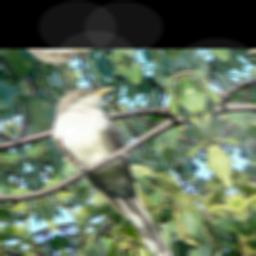Cuckoo: (36, 77, 187, 256)
